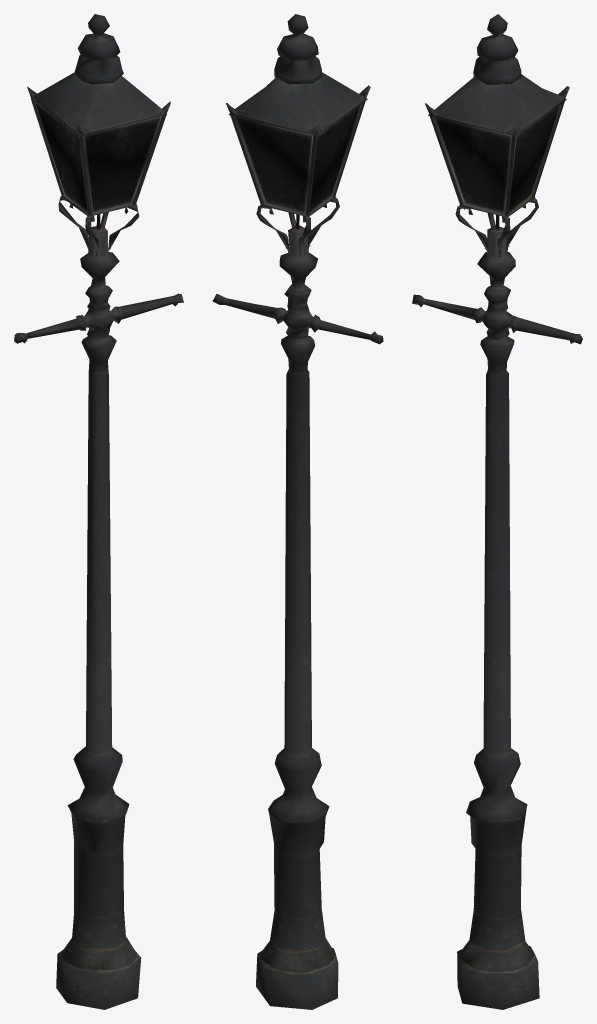
File: street_lamp.glb
3 renders of one model, left to right at view 1: azimuth 30°, elevation 25°; view 2: azimuth 150°, elevation 25°; view 3: azimuth 330°, elevation 25°, orthographic.
Visible parts, largest first — view 1: street_lamp; view 2: street_lamp; view 3: street_lamp.
Part boxes in pixels (x1,y1,x2,y2): street_lamp: (14,14,183,1009); street_lamp: (212,14,383,1009); street_lamp: (412,14,582,1009).
Bounding box in the file's own units: 0.6977 × 3.87 × 0.3849.
Materials: 3 (3 with a texture image).
